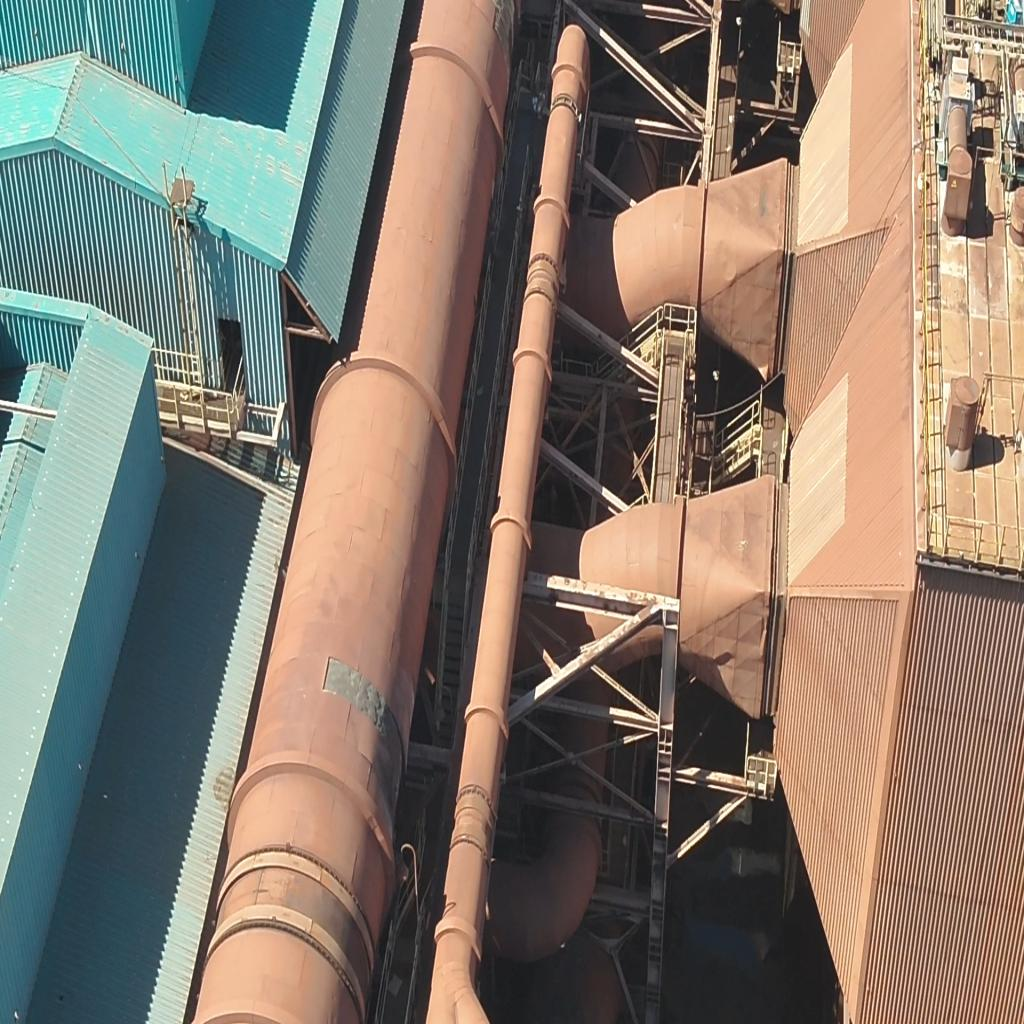Failures: (316, 640, 408, 801), (486, 0, 521, 76)
